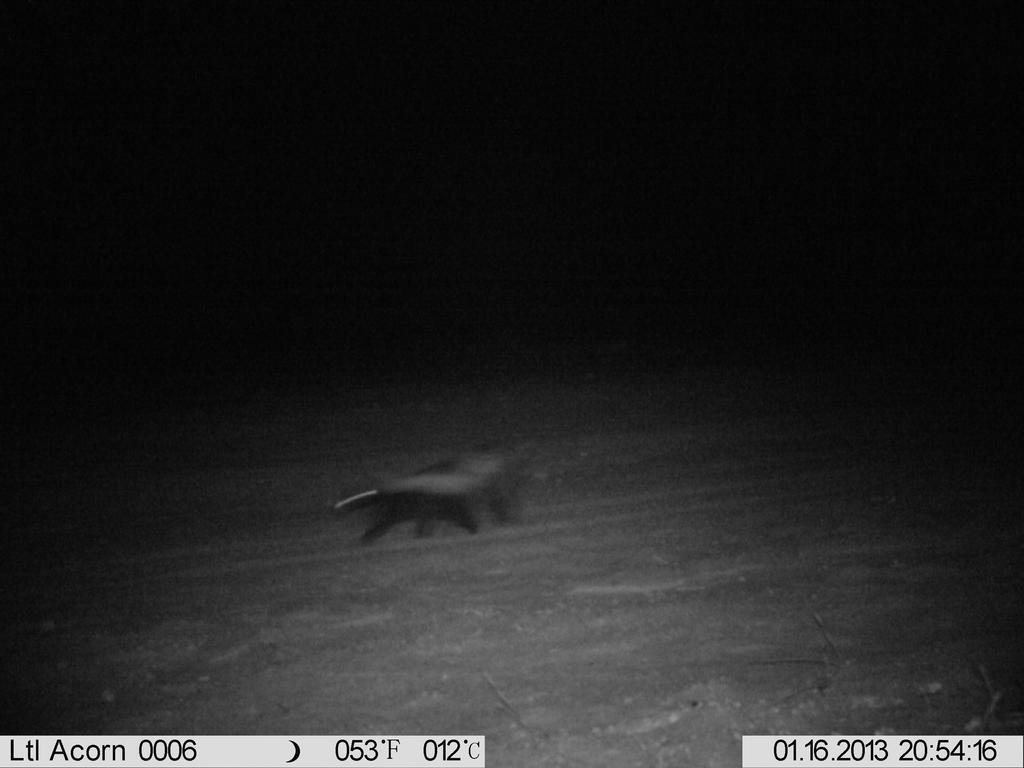skunk: (321, 425, 542, 556)
